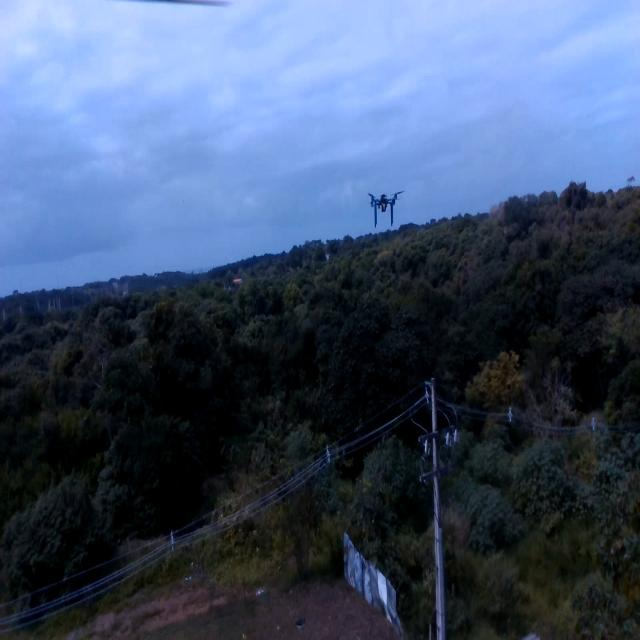-uav-: (366, 180, 405, 232)
